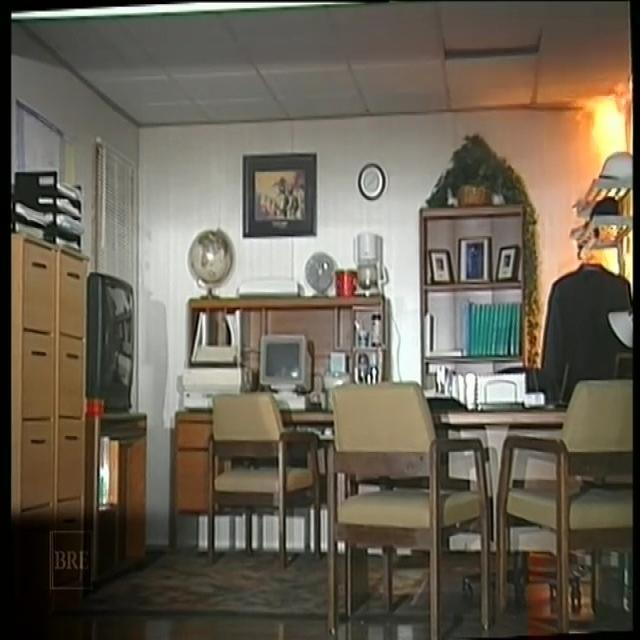Fire: (524, 35, 634, 216)
